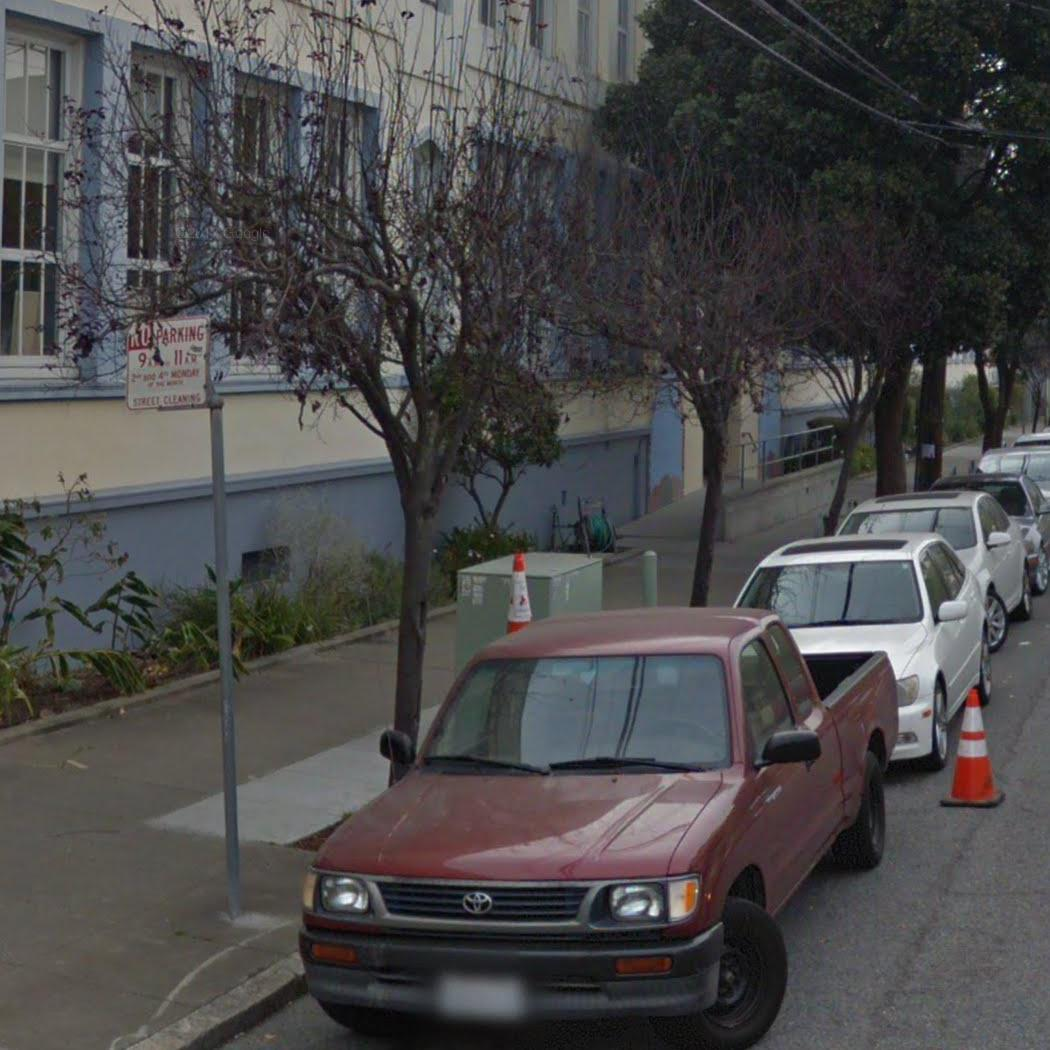No Parking: (121, 309, 215, 414)
